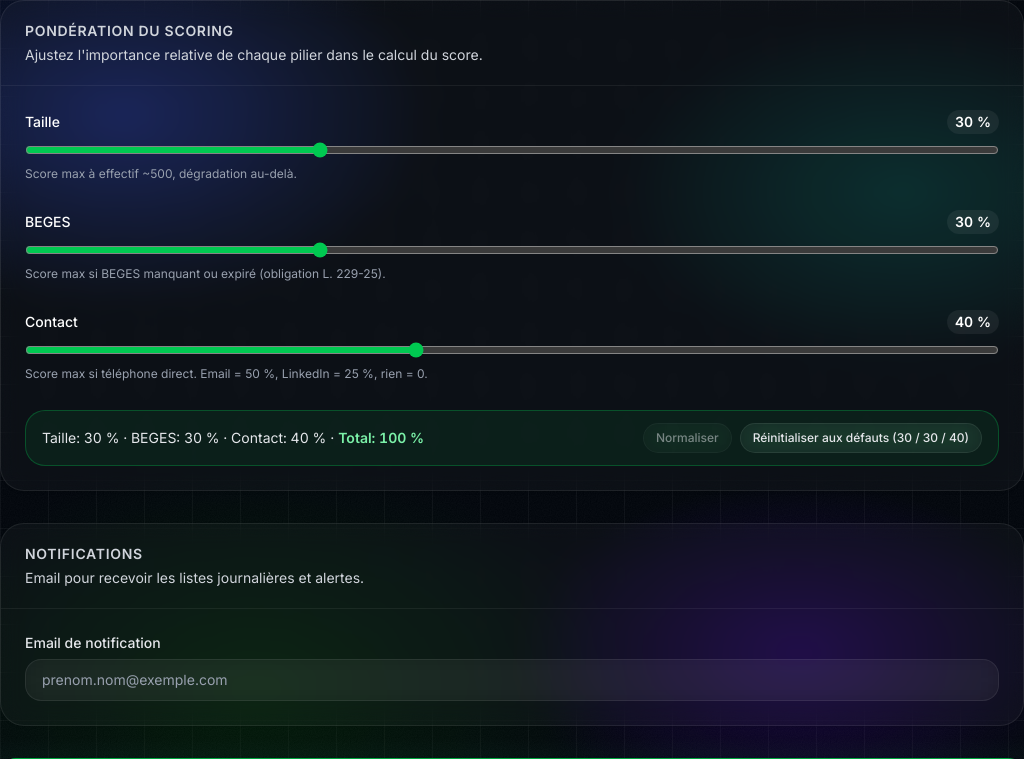
Test: SettingsForm — pondération du scoring › met à jour le total quand on modifie un slider
Set the slider named "Pondération Taille" to "50" at (512,150), box left=25, top=142, right=999, bottom=158
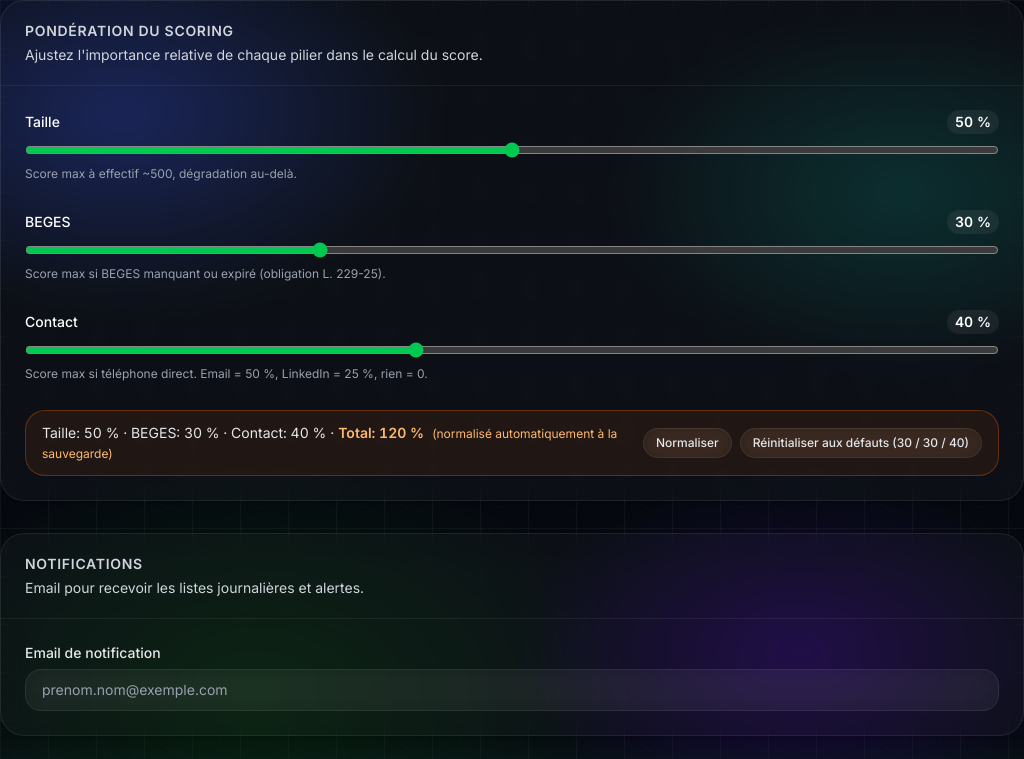
Expected: the text "Total: 120 %" is shown, left=338, top=424, right=424, bottom=441
Expected: the text "(normalisé automatiquement à la sauvegarde)" is shown, left=42, top=426, right=617, bottom=461
